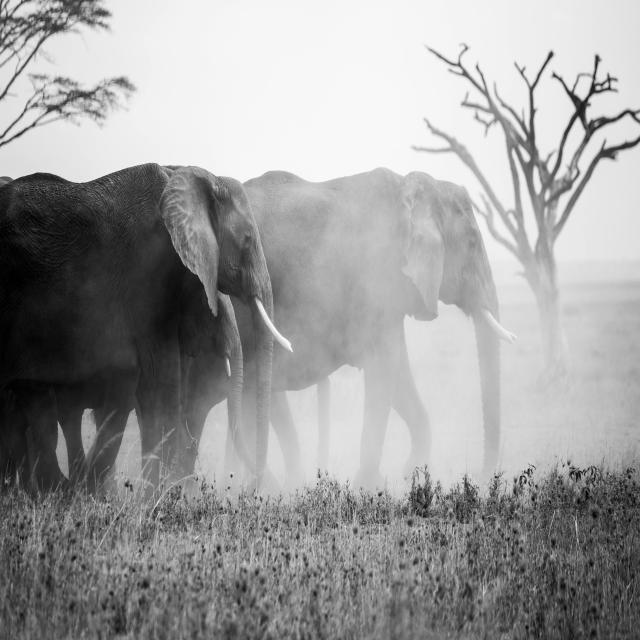Elephant: (191, 167, 518, 492), (0, 162, 294, 513), (5, 253, 258, 498)
